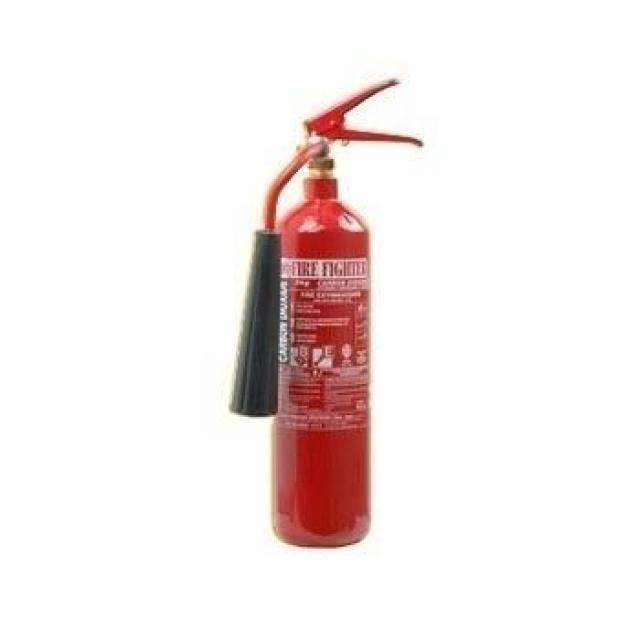fire_extinguisher: (220, 72, 427, 550)
